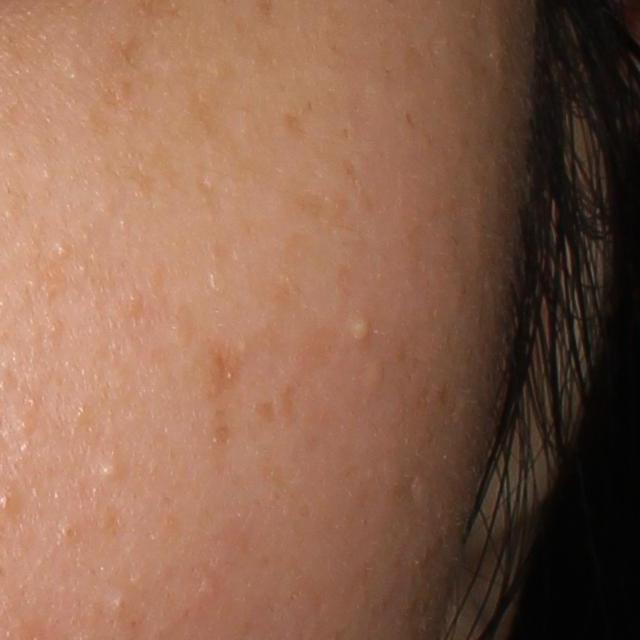atrophic_scar: (206, 349, 240, 405)
comedo: (96, 461, 124, 486), (108, 592, 134, 616), (349, 319, 373, 344), (60, 525, 79, 544), (53, 242, 70, 260)
melasma: (181, 82, 228, 147), (102, 32, 150, 77), (398, 102, 417, 133)
